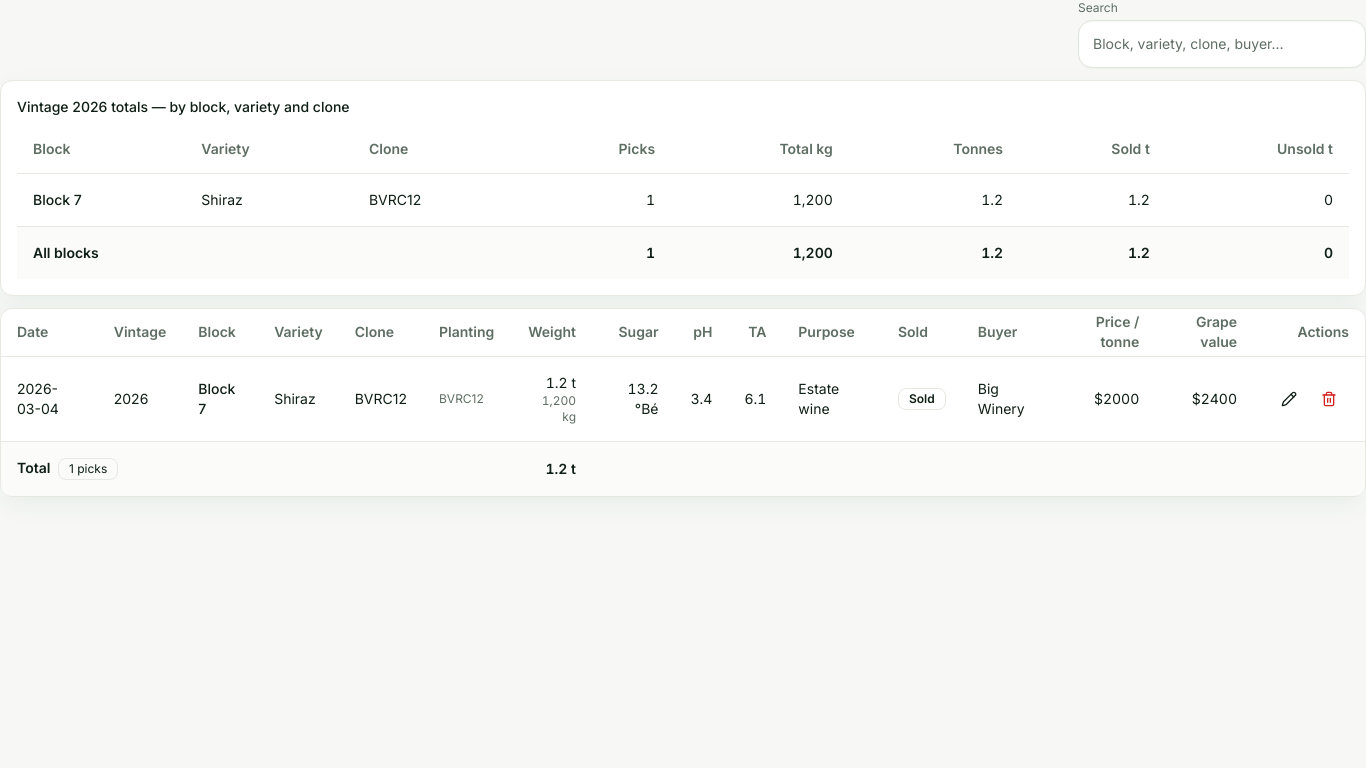
Test case: Picking record editing › pre-populates the existing values
Click the button named "Edit picking record" at [1289, 399], box [1269,379,1309,419]
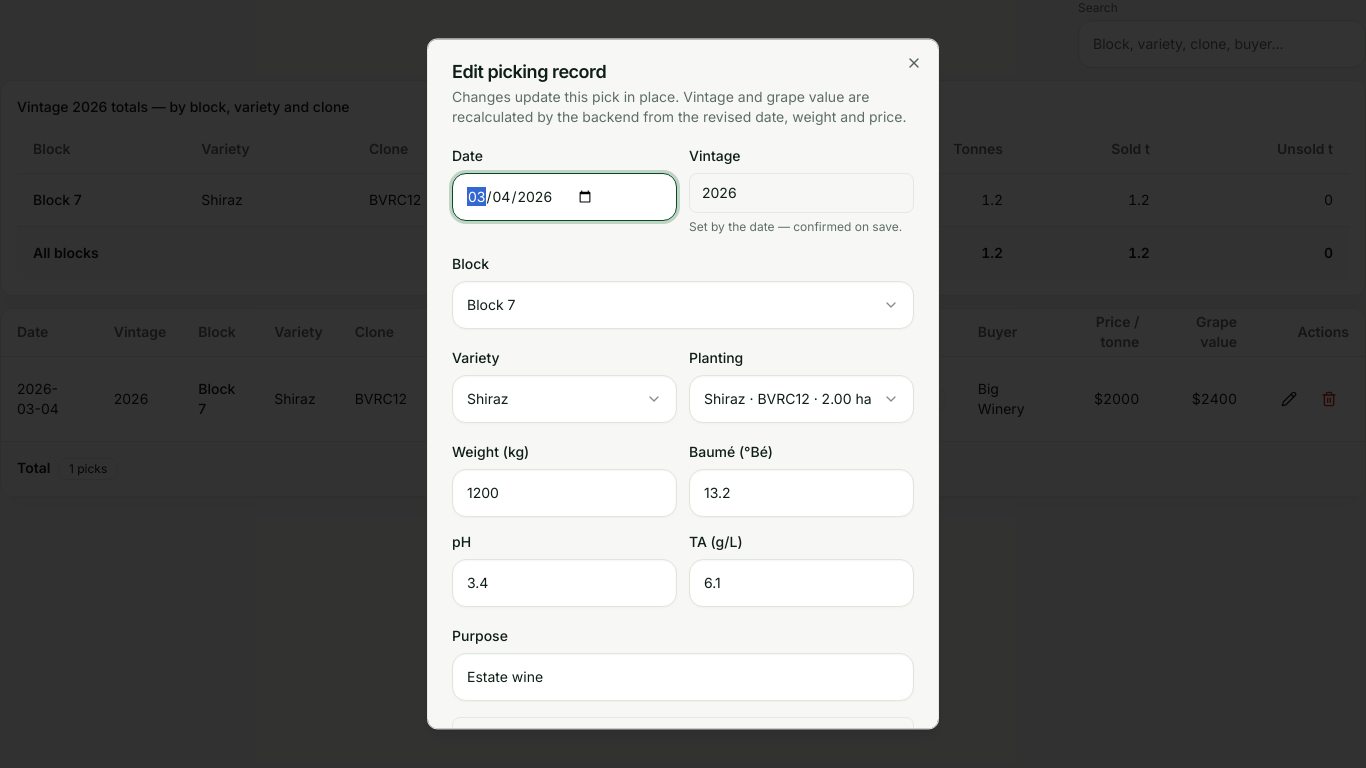
Now the heading "Edit picking record" is shown, box [452,61,606,82]
Now the date field labelled "Date" holds "2026-03-04", box [452,173,677,221]
Now the field labelled "Weight (kg)" holds "1200", box [452,469,677,517]
